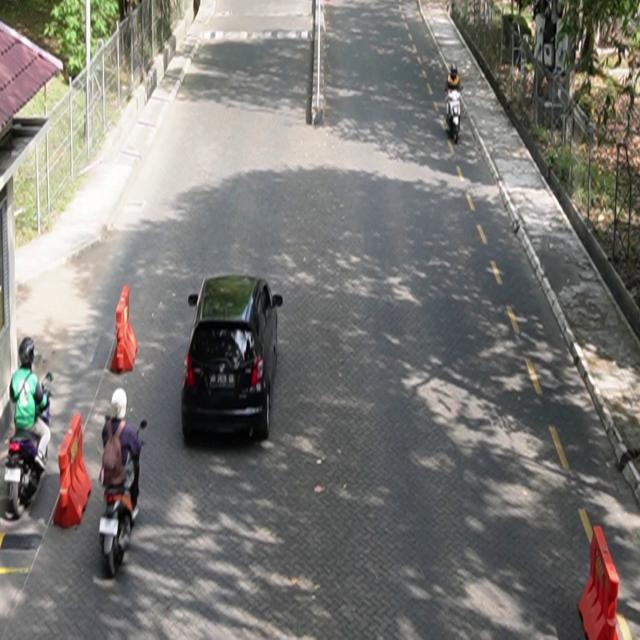car: (182, 272, 284, 444)
